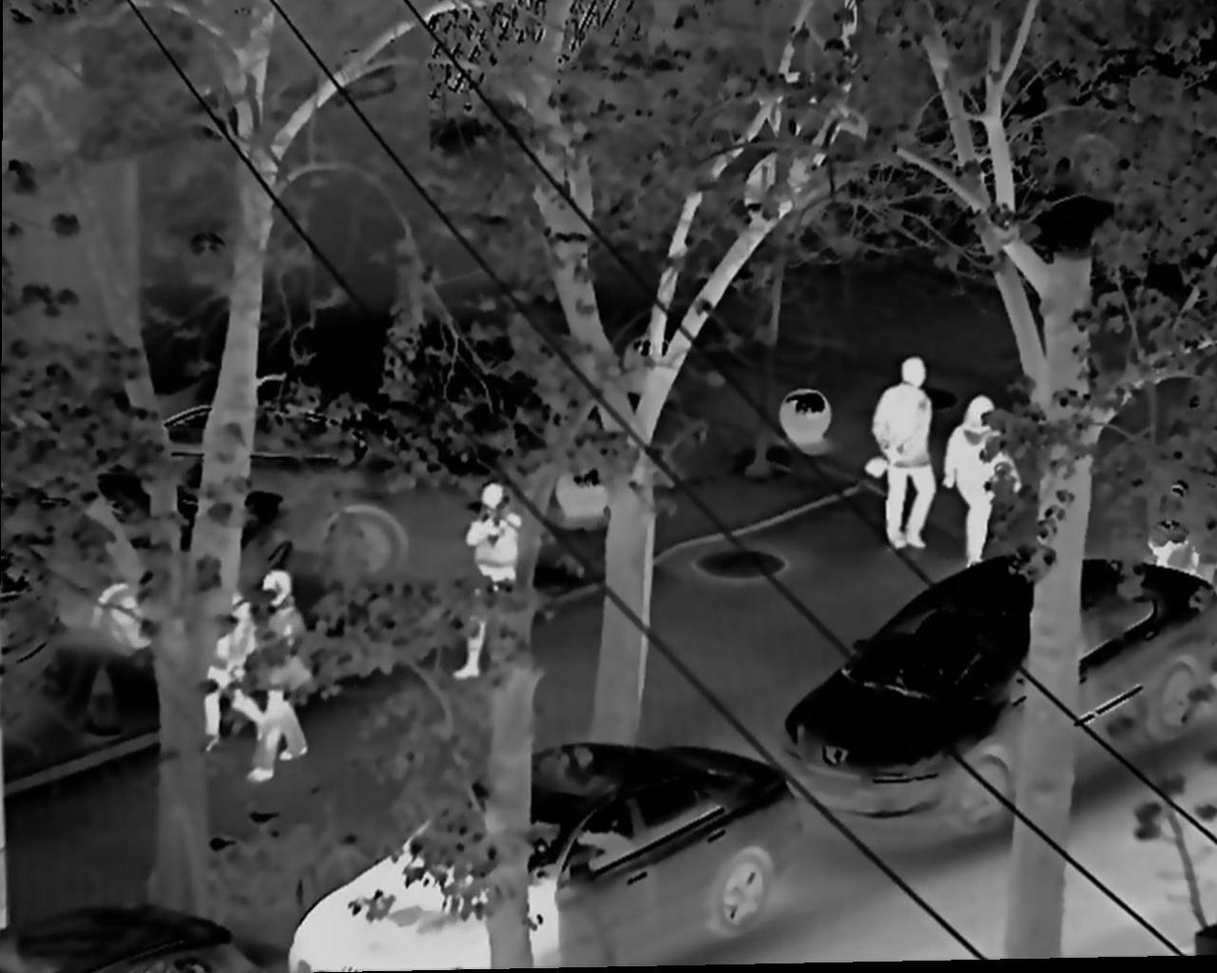person: (234, 576, 323, 776), (862, 353, 944, 559), (459, 485, 535, 696), (943, 386, 1014, 568), (202, 588, 271, 754)
